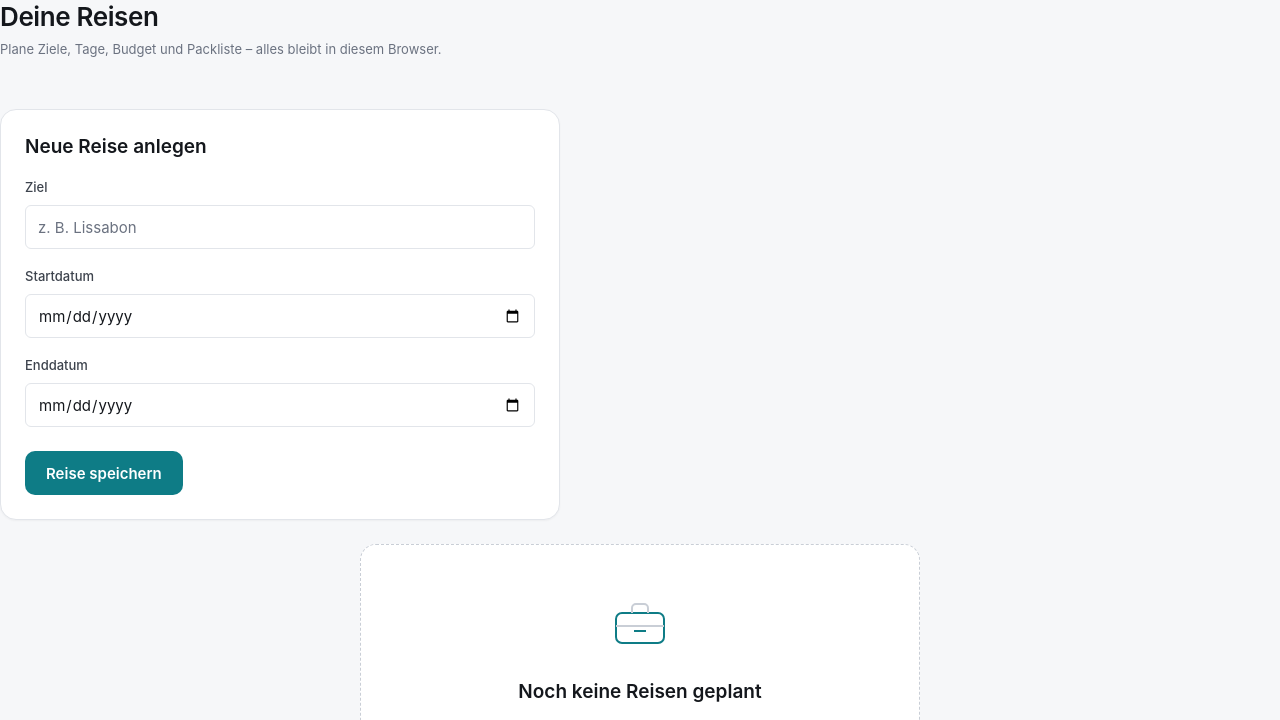
it: TripListPage › deletes a trip only after the confirmation is accepted
The width and height of the screenshot is (1280, 720).
Type "Lissabon" into the field labelled "Ziel" at (280, 227), box [25, 205, 535, 249]
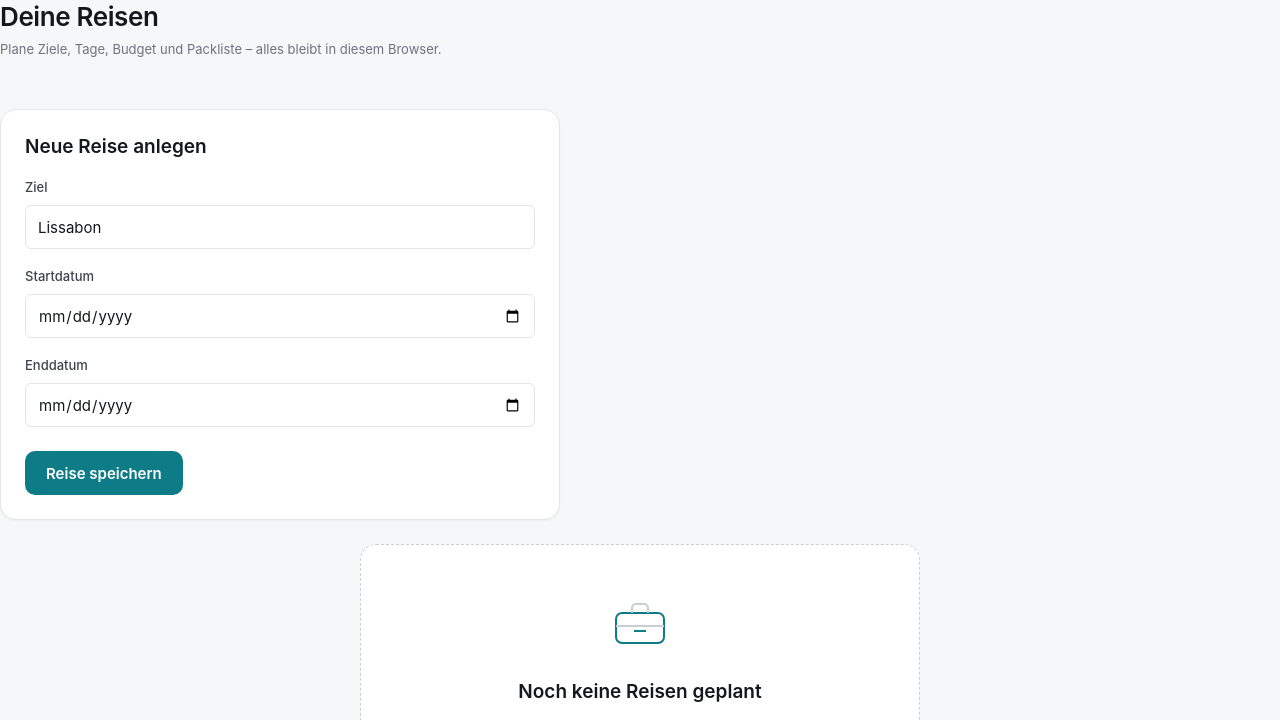
Type "2025-05-12" into the date field labelled "Startdatum" at (280, 316), box [25, 294, 535, 338]
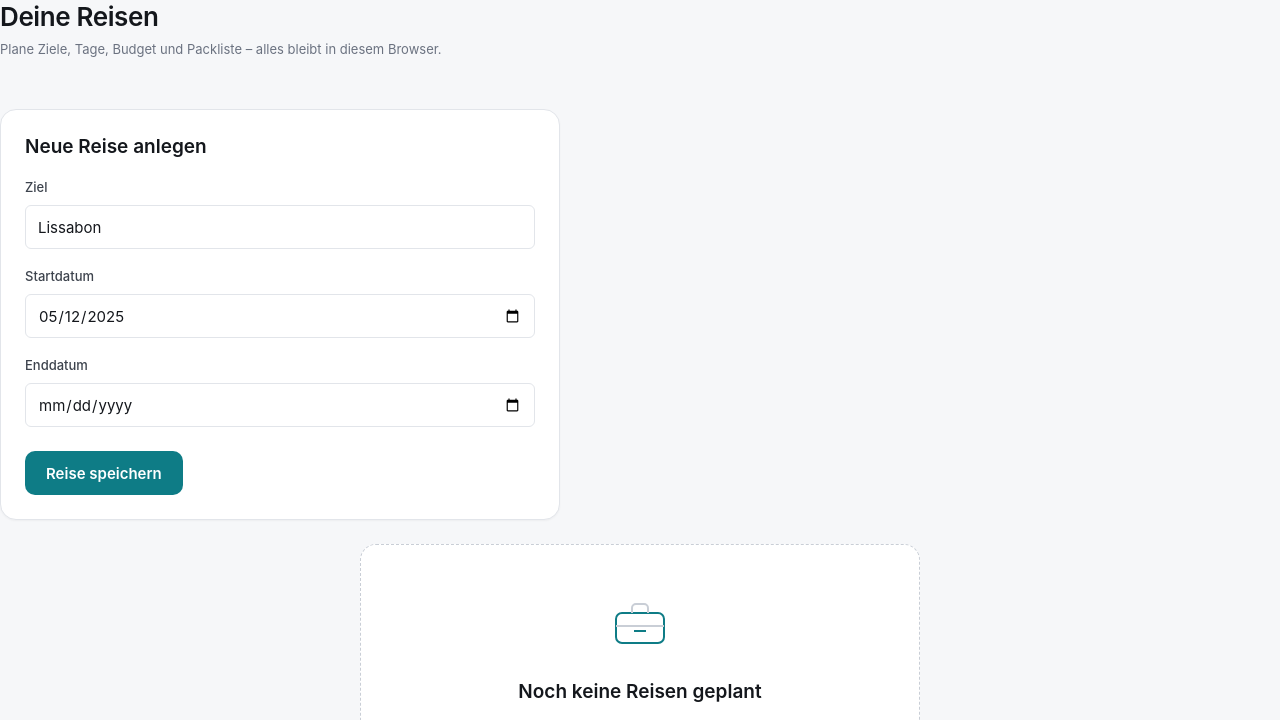
Type "2025-05-18" into the date field labelled "Enddatum" at (280, 405), box [25, 383, 535, 427]
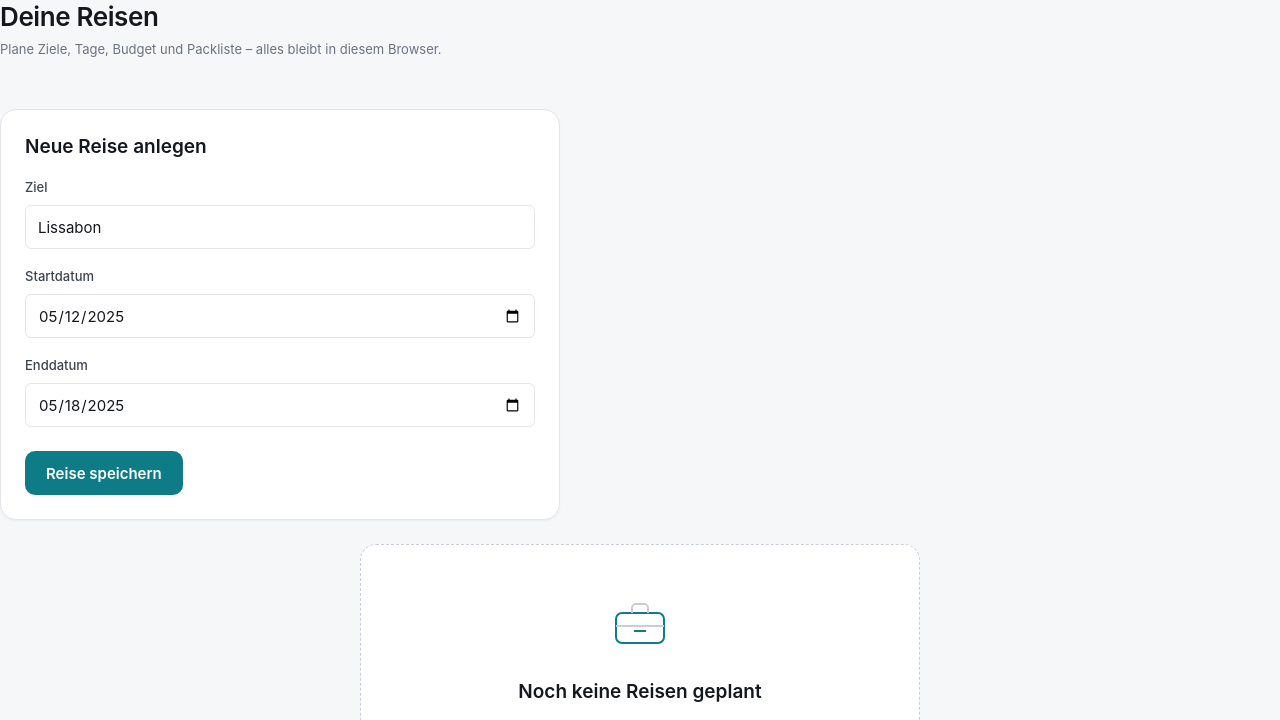
Click the button "Reise speichern" at (104, 473), box [25, 451, 183, 495]
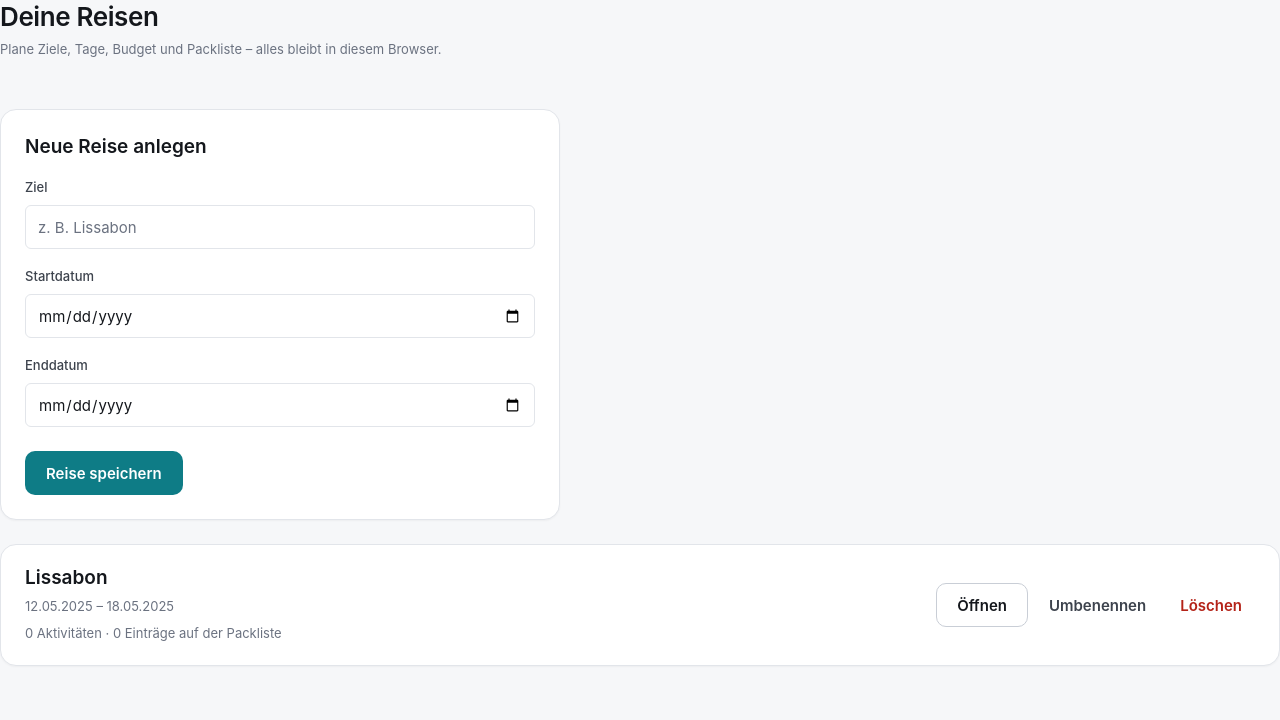
Click the button with aria-label "Reise Lissabon löschen" at (1211, 605), box [1167, 583, 1255, 627]
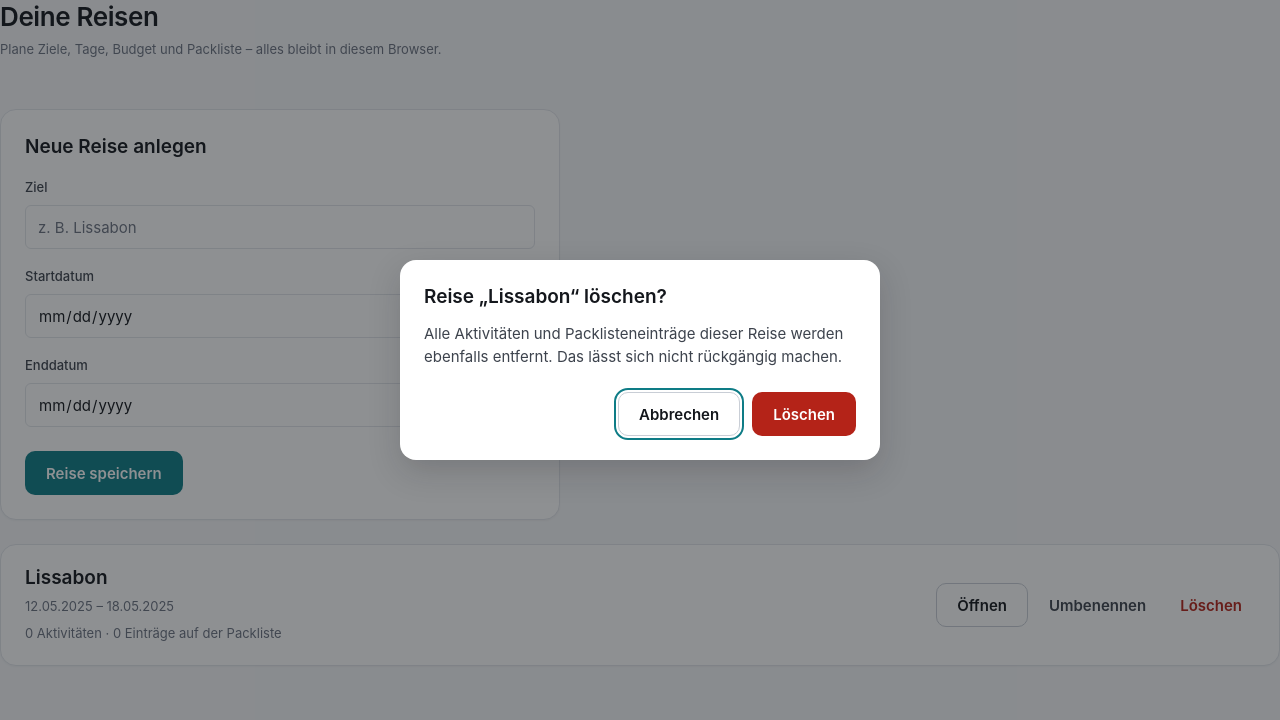
Expected: the heading "Lissabon" is shown, [25, 566, 108, 589]
Expected: the dialog is shown, [400, 260, 880, 460]
Click the button "Löschen" at (804, 414), box [752, 392, 856, 436]
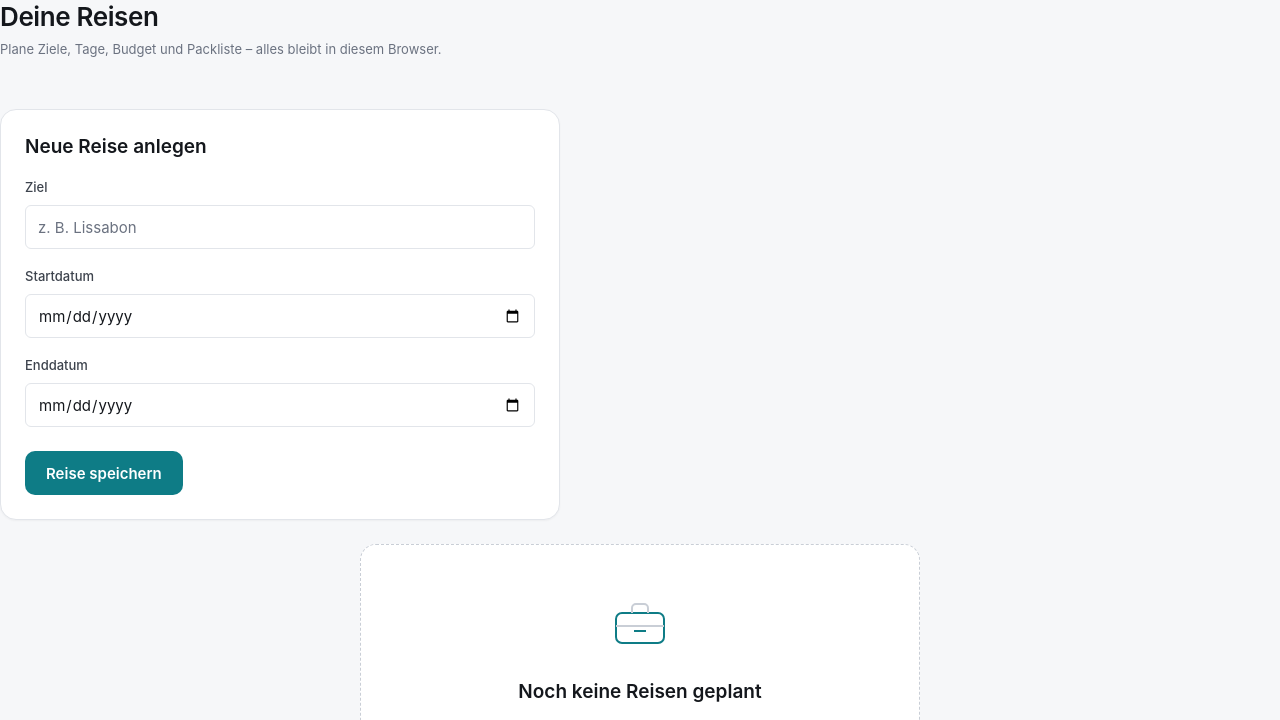
Expected: the dialog is gone
